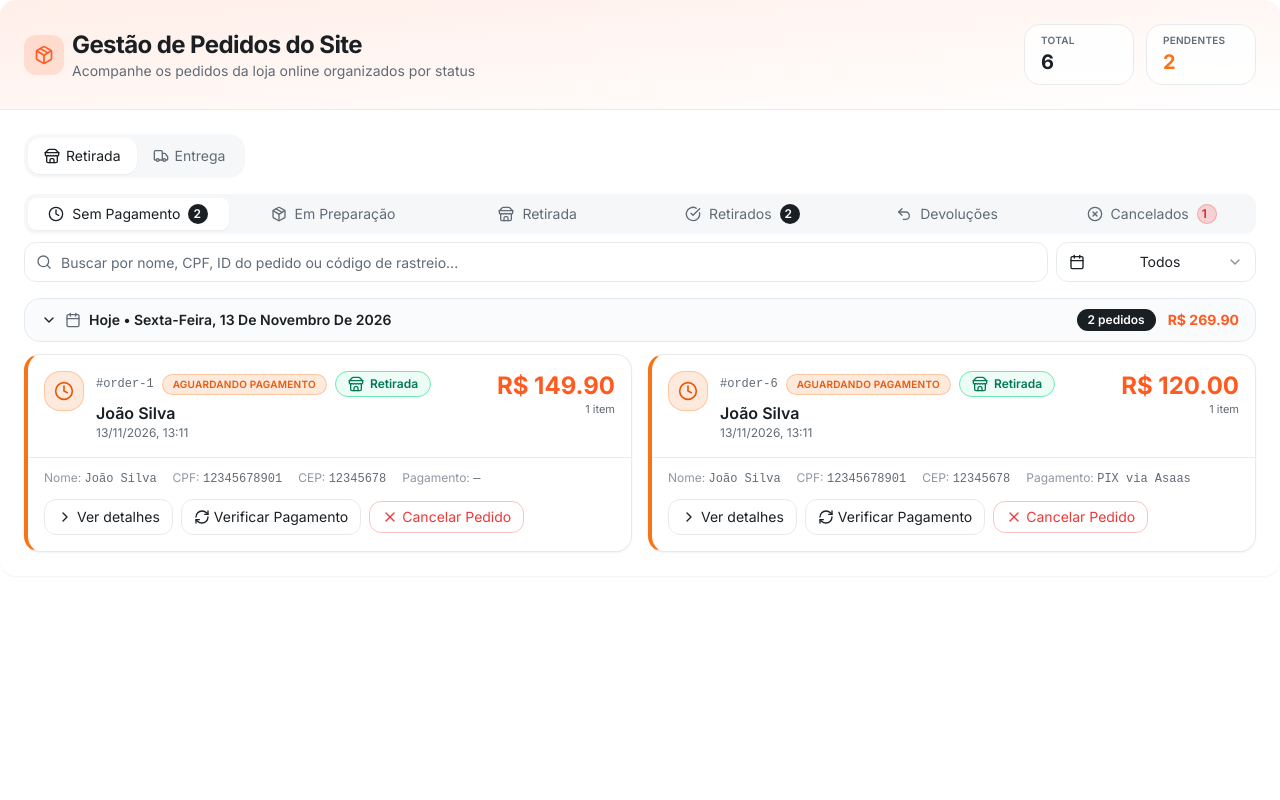
Test case: OrdersManagement — fluxo de cancelamento e estorno › componente renderiza abas do fluxo entrega
Note: Clica no botão "Entrega" do segmented control
Click the button "Entrega" at x=189, y=156, box left=136, top=138, right=241, bottom=174
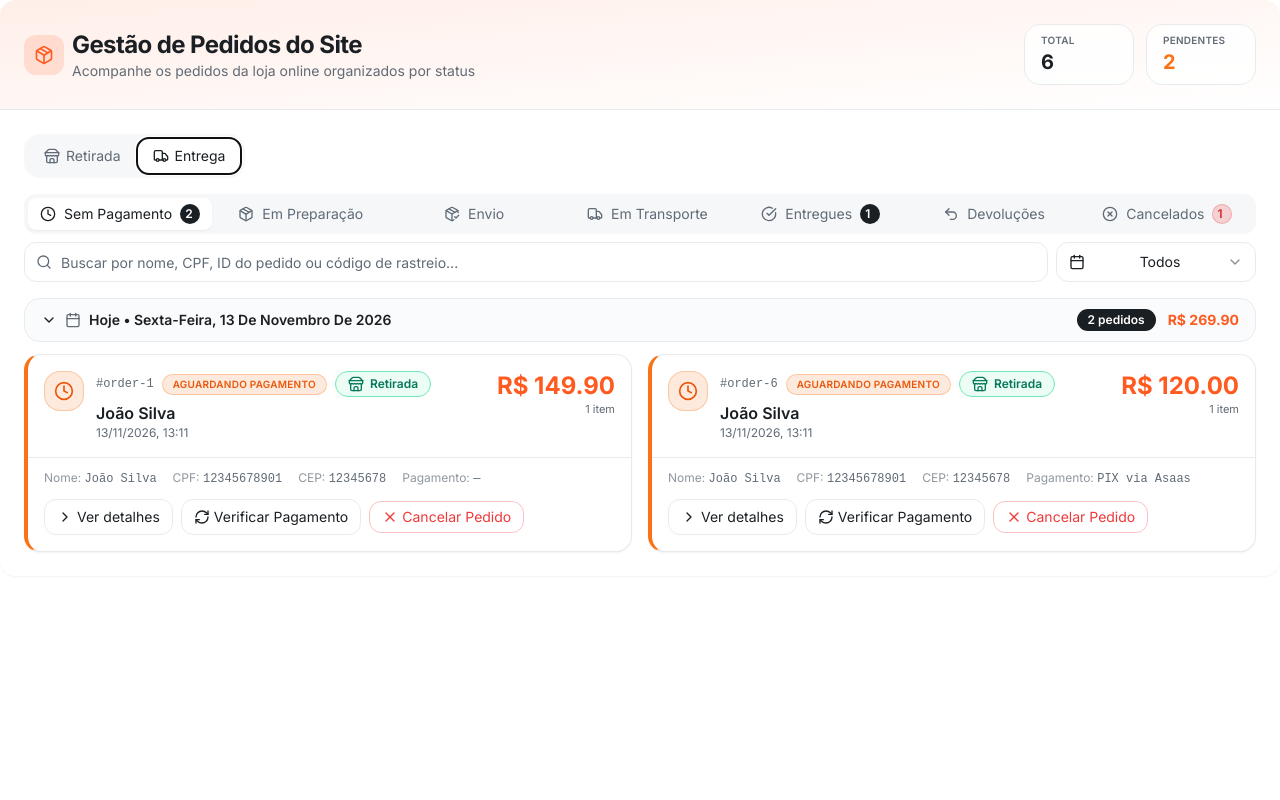
expect the tab "Envio" is shown: met, box left=390, top=198, right=559, bottom=230
expect the tab "Em Transporte" is shown: met, box left=563, top=198, right=732, bottom=230
expect the tab "Entregues 1" is shown: met, box left=736, top=198, right=905, bottom=230
